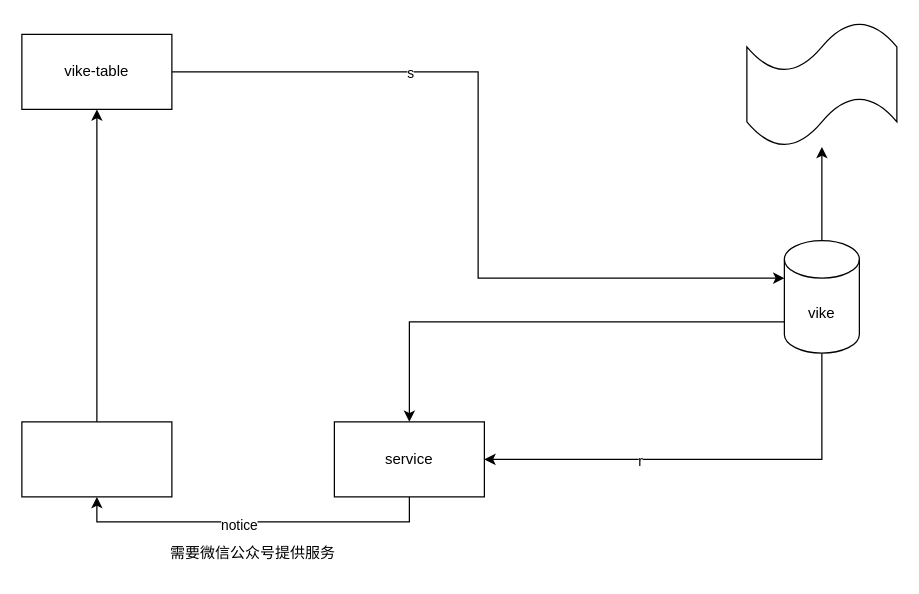
This 919x594 diagram has some shape labels left out. Here are the shapes that lost their labels. From the top down, the centre of each, then its label:
At (821,84): "vike-view".
At (96,459): "wx".
